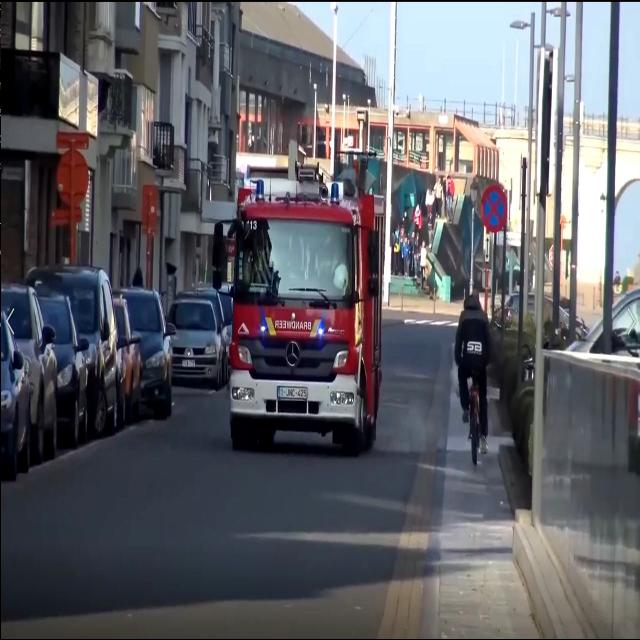emergency: (224, 178, 388, 450)
